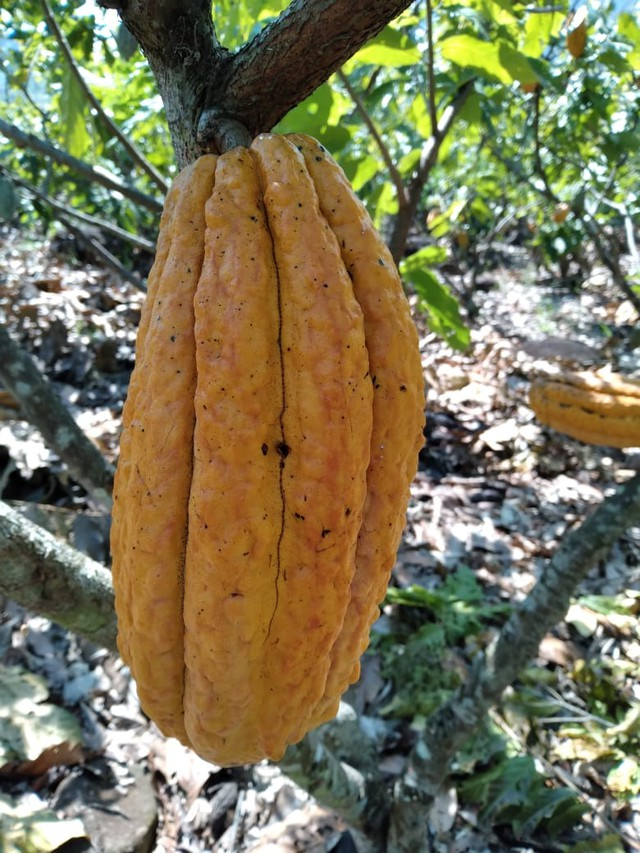Health: (98, 127, 439, 773)
